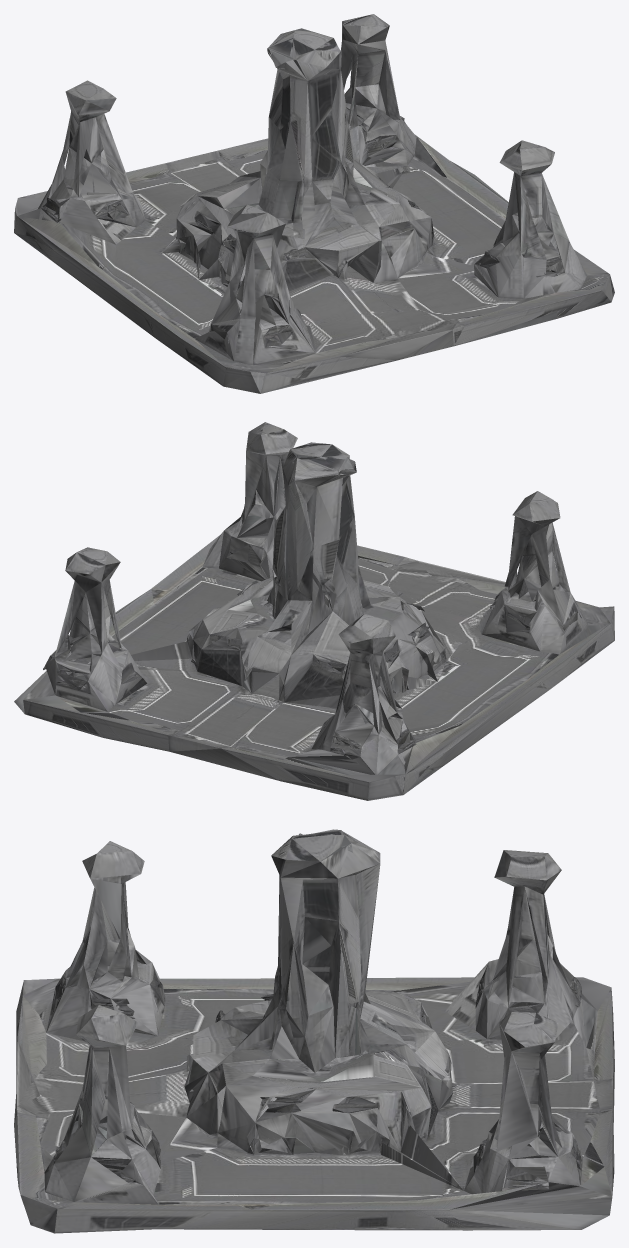
File: shared_planetary_shield_compound_lod1.glb
3 renders of one model, top to bottom at view 1: azimuth 30°, elevation 25°; view 2: azimuth 150°, elevation 25°; view 3: azimuth 270°, elevation 25°, orthographic. The views are drawn at different scales.
Visible parts, largest first — view 1: mesh_node; view 2: mesh_node; view 3: mesh_node.
Boxes of the visible parts, left/top/right/bottom form: mesh_node: left=14, top=14, right=614, bottom=393; mesh_node: left=14, top=422, right=614, bottom=800; mesh_node: left=14, top=829, right=614, bottom=1233.
Bounding box in the file's own units: 30.54 × 16.76 × 32.93.
Materials: 1 (1 with a texture image).
